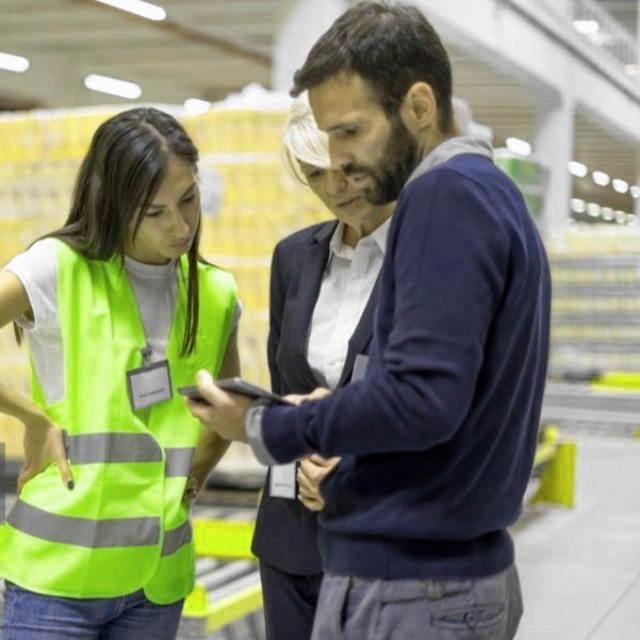Con_Chaleco: (3, 239, 238, 582)
Sin_Casco_Mascarrilla: (301, 3, 451, 207), (88, 107, 201, 261)
